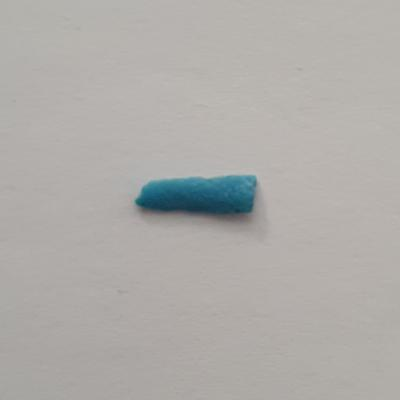plastic: (129, 171, 262, 218)
